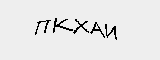А: (88, 20, 103, 37)
И: (103, 22, 120, 40)
К: (51, 16, 73, 35)
П: (32, 17, 50, 36)
Х: (71, 17, 90, 36)
